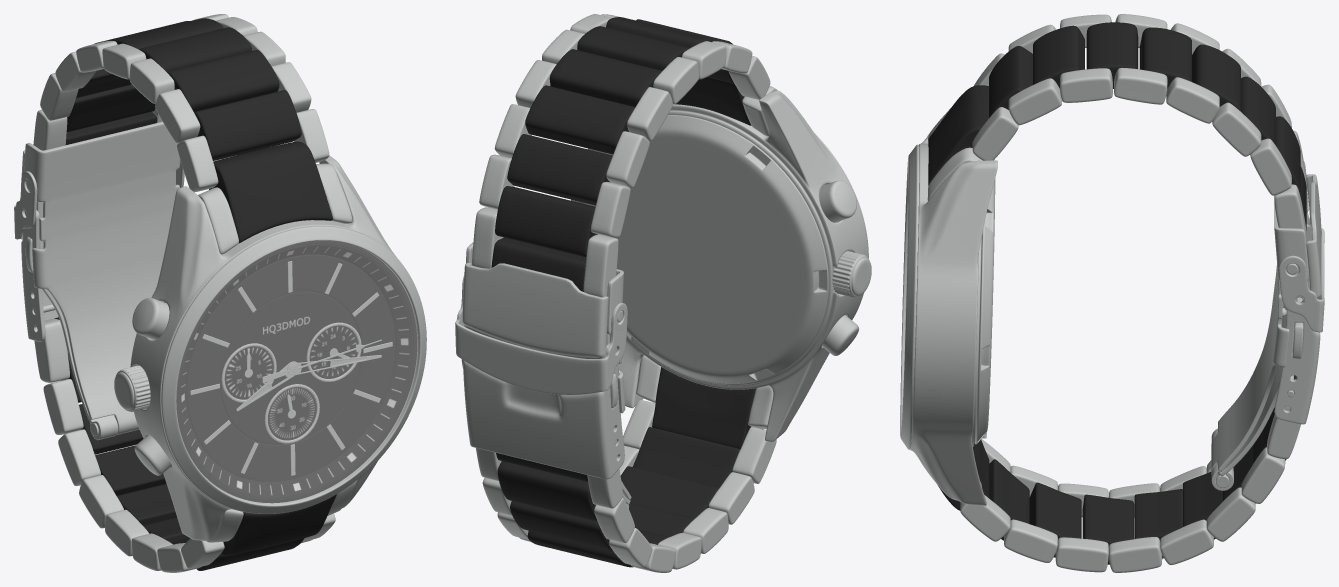
Rendered from compressed_1746649888230_watchbracelet01_v3.1_Cycles copie.glb.
3 renders of one model, left to right at view 1: azimuth 30°, elevation 25°; view 2: azimuth 150°, elevation 25°; view 3: azimuth 270°, elevation 25°, orthographic.
Visible parts, largest first — view 1: wwsb1_bracelet, wwsb1_rear_lid, wwsb1_glass, wwsb1_chrono_dial_borders; view 2: wwsb1_bracelet, wwsb1_rear_lid, wwsb1_chrono_dial_borders; view 3: wwsb1_bracelet, wwsb1_rear_lid.
Part boxes in pixels (x1=…): wwsb1_bracelet: x1=14, y1=14, x2=356, y2=572; wwsb1_rear_lid: x1=130, y1=155, x2=426, y2=541; wwsb1_glass: x1=176, y1=241, x2=418, y2=504; wwsb1_chrono_dial_borders: x1=114, y1=261, x2=392, y2=475; wwsb1_bracelet: x1=455, y1=14, x2=777, y2=572; wwsb1_rear_lid: x1=571, y1=90, x2=868, y2=441; wwsb1_chrono_dial_borders: x1=819, y1=180, x2=871, y2=355; wwsb1_bracelet: x1=927, y1=14, x2=1324, y2=572; wwsb1_rear_lid: x1=900, y1=108, x2=997, y2=505.
Bounding box in the file's own units: 0.0357 × 0.0603 × 0.0465.
Materials: 4 (3 with a texture image).
